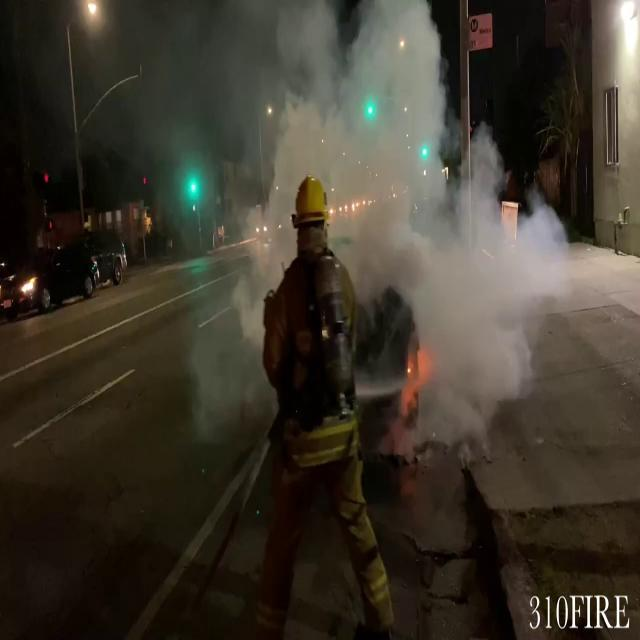Smoke: (259, 1, 572, 398)
